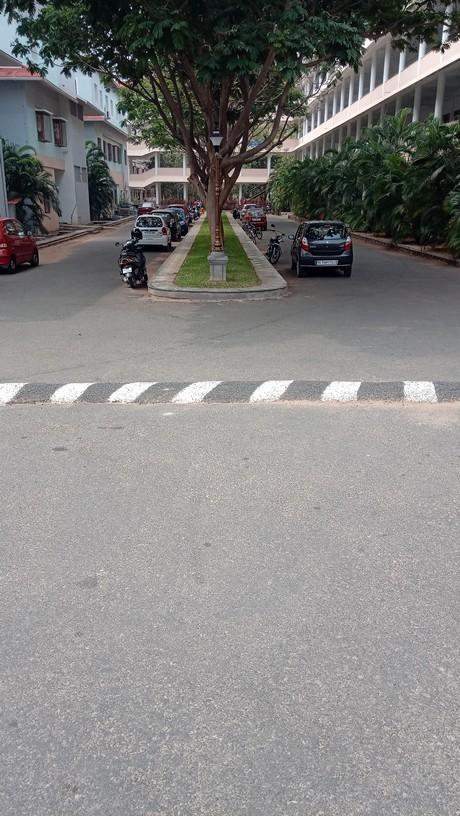speed-bump: (1, 379, 460, 407)
